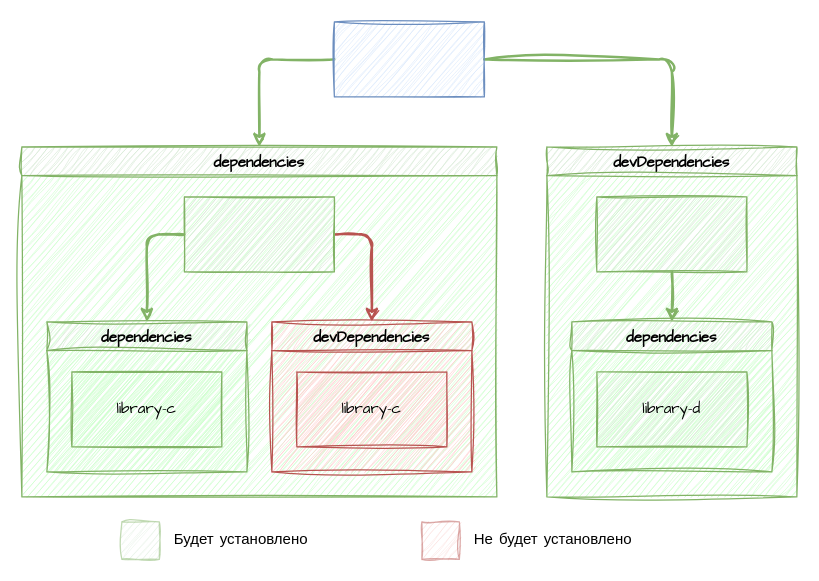
The diagram is 819 pixels wide and 581 high, and some of its shapes have lost their labels. The shapes that lost their labels are listed below. From the top down, each one's centre as x and y in pixels, then its label:
the point at 408,59: my-app
the point at 258,234: library-a
the point at 671,234: library-b
